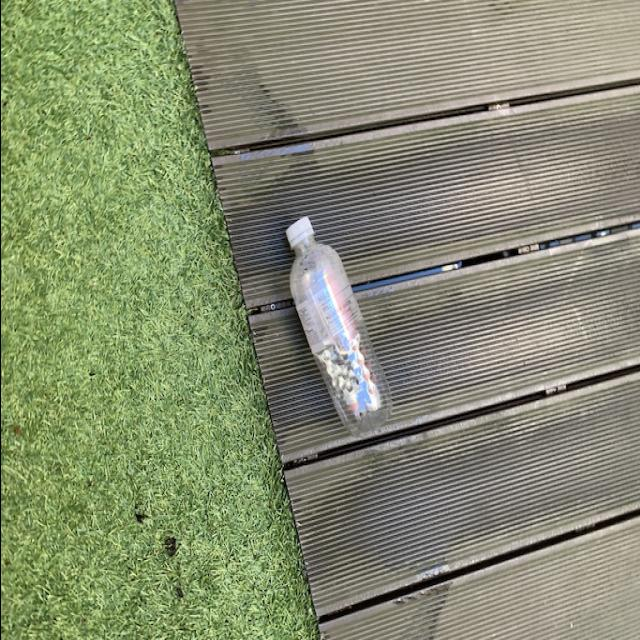PET: (282, 218, 392, 440)
